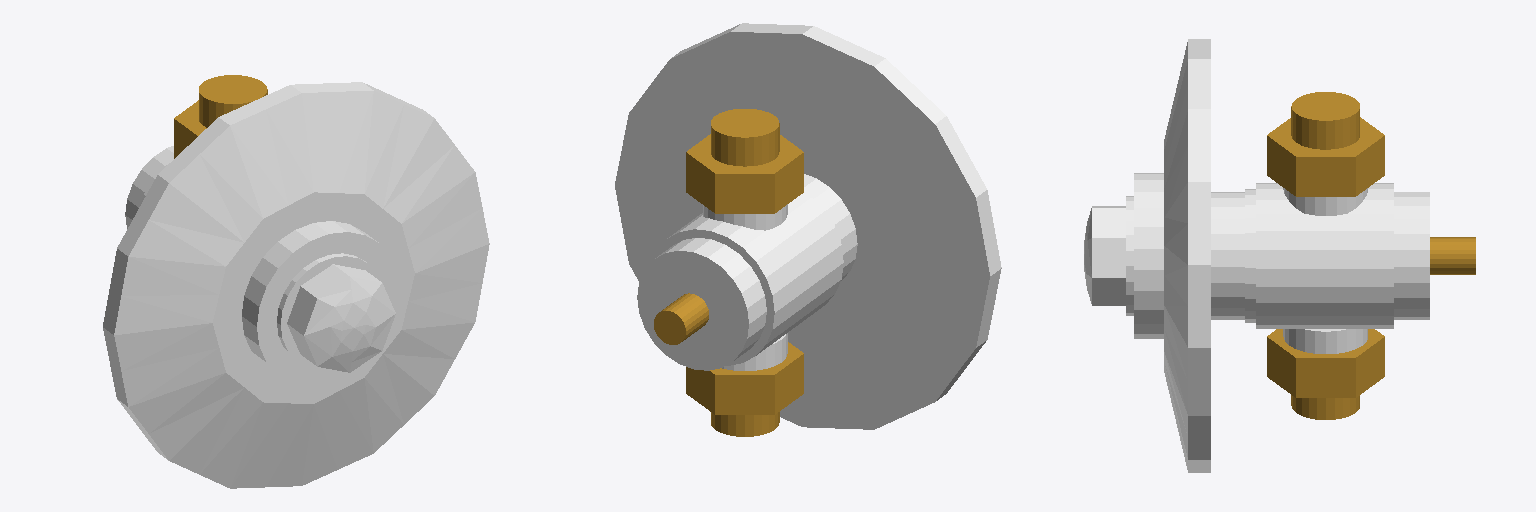
The model's file is WaterValve.obj.
3 views of the same model, side by side, from view 1: azimuth 30°, elevation 25°; view 2: azimuth 150°, elevation 25°; view 3: azimuth 270°, elevation 25° (orthographic).
Parts seen in each view (by area): view 1: Mesh4 Preview2_1 Metering_Shower_Valve1 Model, Mesh5 Preview2_1 Metering_Shower_Valve1 Model, Mesh6 Preview5_1 Metering_Shower_Valve1 Model, Mesh16 Preview4_1 Metering_Shower_Valve1 Model, Mesh7 Preview13_1 Metering_Shower_Valve1 Model, Mesh2 Preview3_1 Metering_Shower_Valve1 Model, Mesh12 Preview9_1 Metering_Shower_Valve1 Model, Mesh13 Preview12_1 Metering_Shower_Valve1 Model; view 2: Mesh4 Preview2_1 Metering_Shower_Valve1 Model, Mesh11 Preview8_1 Metering_Shower_Valve1 Model, Mesh12 Preview9_1 Metering_Shower_Valve1 Model, Mesh13 Preview12_1 Metering_Shower_Valve1 Model, Mesh15 Preview15_1 Metering_Shower_Valve1 Model, Mesh7 Preview13_1 Metering_Shower_Valve1 Model, Mesh1 Preview10_1 Metering_Shower_Valve1 Model, Mesh10 Preview6_1 Metering_Shower_Valve1 Model, Mesh8 Preview16_1 Metering_Shower_Valve1 Model, Mesh3 Preview11_1 Metering_Shower_Valve1 Model, Mesh14 Preview14_1 Metering_Shower_Valve1 Model; view 3: Mesh4 Preview2_1 Metering_Shower_Valve1 Model, Mesh11 Preview8_1 Metering_Shower_Valve1 Model, Mesh13 Preview12_1 Metering_Shower_Valve1 Model, Mesh15 Preview15_1 Metering_Shower_Valve1 Model, Mesh6 Preview5_1 Metering_Shower_Valve1 Model, Mesh12 Preview9_1 Metering_Shower_Valve1 Model, Mesh10 Preview6_1 Metering_Shower_Valve1 Model, Mesh16 Preview4_1 Metering_Shower_Valve1 Model, Mesh7 Preview13_1 Metering_Shower_Valve1 Model, Mesh14 Preview14_1 Metering_Shower_Valve1 Model, Mesh1 Preview10_1 Metering_Shower_Valve1 Model, Mesh9 Preview7_1 Metering_Shower_Valve1 Model (+3 smaller).
Part boxes in pixels (bbox=[...]): Mesh4 Preview2_1 Metering_Shower_Valve1 Model: bbox=[103, 82, 489, 488]; Mesh5 Preview2_1 Metering_Shower_Valve1 Model: bbox=[213, 192, 414, 403]; Mesh6 Preview5_1 Metering_Shower_Valve1 Model: bbox=[242, 221, 400, 386]; Mesh16 Preview4_1 Metering_Shower_Valve1 Model: bbox=[287, 264, 395, 372]; Mesh7 Preview13_1 Metering_Shower_Valve1 Model: bbox=[199, 75, 267, 127]; Mesh2 Preview3_1 Metering_Shower_Valve1 Model: bbox=[277, 253, 381, 367]; Mesh12 Preview9_1 Metering_Shower_Valve1 Model: bbox=[125, 146, 173, 228]; Mesh13 Preview12_1 Metering_Shower_Valve1 Model: bbox=[174, 100, 206, 158]; Mesh4 Preview2_1 Metering_Shower_Valve1 Model: bbox=[615, 23, 1001, 429]; Mesh11 Preview8_1 Metering_Shower_Valve1 Model: bbox=[651, 192, 843, 365]; Mesh12 Preview9_1 Metering_Shower_Valve1 Model: bbox=[637, 238, 766, 370]; Mesh13 Preview12_1 Metering_Shower_Valve1 Model: bbox=[686, 134, 803, 213]; Mesh15 Preview15_1 Metering_Shower_Valve1 Model: bbox=[686, 342, 803, 414]; Mesh7 Preview13_1 Metering_Shower_Valve1 Model: bbox=[711, 109, 779, 166]; Mesh1 Preview10_1 Metering_Shower_Valve1 Model: bbox=[654, 293, 708, 344]; Mesh10 Preview6_1 Metering_Shower_Valve1 Model: bbox=[804, 174, 857, 280]; Mesh8 Preview16_1 Metering_Shower_Valve1 Model: bbox=[711, 412, 779, 436]; Mesh3 Preview11_1 Metering_Shower_Valve1 Model: bbox=[703, 204, 787, 230]; Mesh14 Preview14_1 Metering_Shower_Valve1 Model: bbox=[722, 333, 787, 370]; Mesh4 Preview2_1 Metering_Shower_Valve1 Model: bbox=[1164, 39, 1210, 472]; Mesh11 Preview8_1 Metering_Shower_Valve1 Model: bbox=[1256, 183, 1393, 328]; Mesh13 Preview12_1 Metering_Shower_Valve1 Model: bbox=[1267, 117, 1384, 196]; Mesh15 Preview15_1 Metering_Shower_Valve1 Model: bbox=[1267, 329, 1384, 397]; Mesh6 Preview5_1 Metering_Shower_Valve1 Model: bbox=[1134, 173, 1163, 338]; Mesh12 Preview9_1 Metering_Shower_Valve1 Model: bbox=[1394, 192, 1429, 319]; Mesh10 Preview6_1 Metering_Shower_Valve1 Model: bbox=[1211, 192, 1244, 319]; Mesh16 Preview4_1 Metering_Shower_Valve1 Model: bbox=[1084, 206, 1125, 305]; Mesh7 Preview13_1 Metering_Shower_Valve1 Model: bbox=[1291, 92, 1359, 149]; Mesh14 Preview14_1 Metering_Shower_Valve1 Model: bbox=[1283, 329, 1367, 353]; Mesh1 Preview10_1 Metering_Shower_Valve1 Model: bbox=[1430, 237, 1475, 274]; Mesh9 Preview7_1 Metering_Shower_Valve1 Model: bbox=[1245, 189, 1255, 322].
Size of the model in its own units: 0.1295 by 0.1295 by 0.1173.